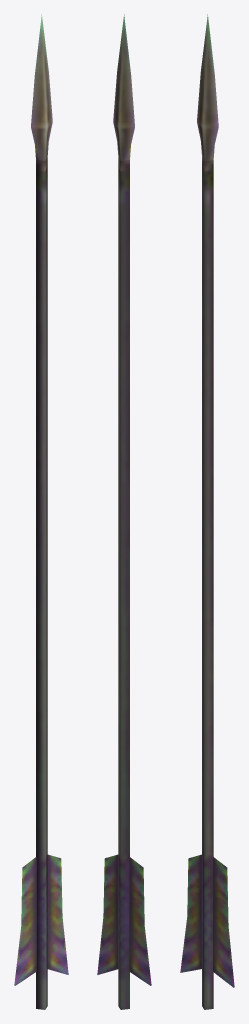
Rendered from Arrow04.FBX.
3 renders of one model, left to right at view 1: azimuth 30°, elevation 25°; view 2: azimuth 150°, elevation 25°; view 3: azimuth 330°, elevation 25°, orthographic.
Parts seen in each view (by area): view 1: Arrow04; view 2: Arrow04; view 3: Arrow04.
Boxes of the visible parts, x1,y1,x2,y2 form: Arrow04: (14, 14, 68, 1009); Arrow04: (97, 14, 151, 1009); Arrow04: (180, 14, 234, 1009).
Size of the model in its own units: 4.54 by 79.95 by 1.46.
